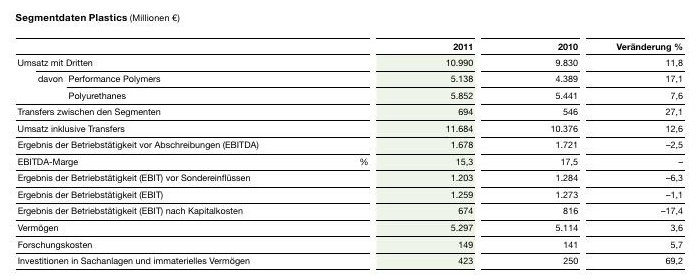table: (0, 0, 697, 280)
